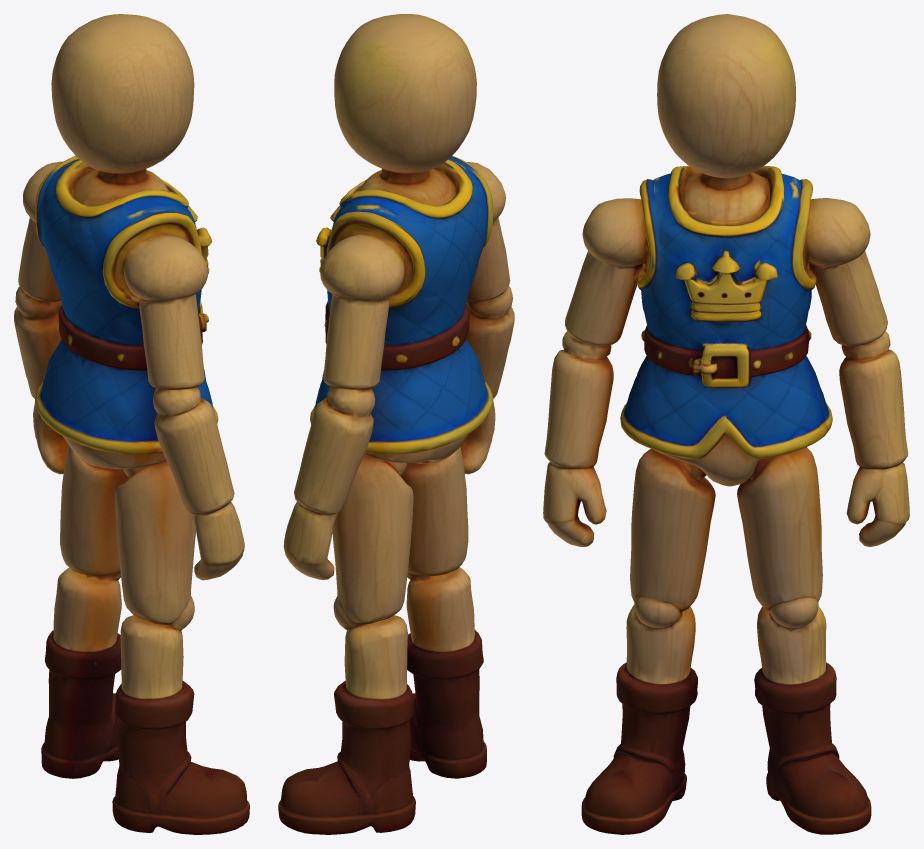
File: wooden_knight_mannequin.glb
3 views of the same model, side by side, from view 1: azimuth 30°, elevation 25°; view 2: azimuth 150°, elevation 25°; view 3: azimuth 270°, elevation 25° (orthographic).
Parts seen in each view (by area): view 1: node_52d3c3de-9171-4d26-86f0-e00a8e76d90a; view 2: node_52d3c3de-9171-4d26-86f0-e00a8e76d90a; view 3: node_52d3c3de-9171-4d26-86f0-e00a8e76d90a.
Boxes of the visible parts, <box> form: node_52d3c3de-9171-4d26-86f0-e00a8e76d90a: <box>14,14,249,834</box>; node_52d3c3de-9171-4d26-86f0-e00a8e76d90a: <box>278,14,514,834</box>; node_52d3c3de-9171-4d26-86f0-e00a8e76d90a: <box>543,14,909,834</box>.
Bounding box in the file's own units: 0.1976 × 1 × 0.4266.
1 material, 1 textured.
